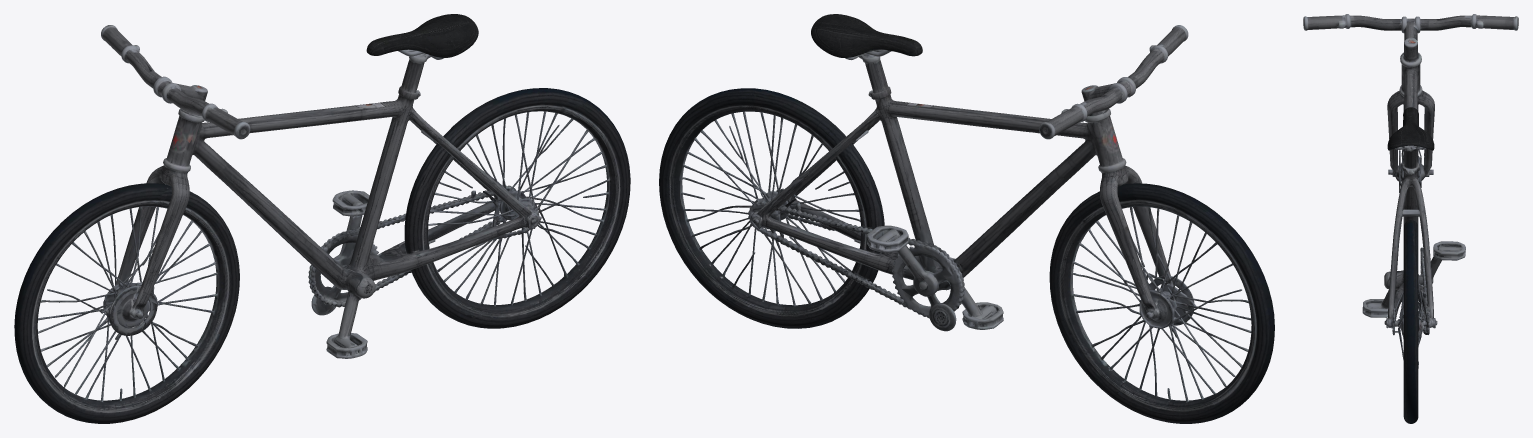
The model's file is bike.glb.
3 views of the same model, side by side, from view 1: azimuth 30°, elevation 25°; view 2: azimuth 150°, elevation 25°; view 3: azimuth 270°, elevation 25° (orthographic). The views are drawn at different scales.
Parts seen in each view (by area): view 1: Mesh_0; view 2: Mesh_0; view 3: Mesh_0.
Boxes of the visible parts, left/top/right/bottom form: Mesh_0: left=14, top=14, right=630, bottom=423; Mesh_0: left=659, top=14, right=1274, bottom=423; Mesh_0: left=1303, top=14, right=1518, bottom=423.
Bounding box in the file's own units: 1.9 × 0.9912 × 0.7298.
Materials: 1 (1 with a texture image).
